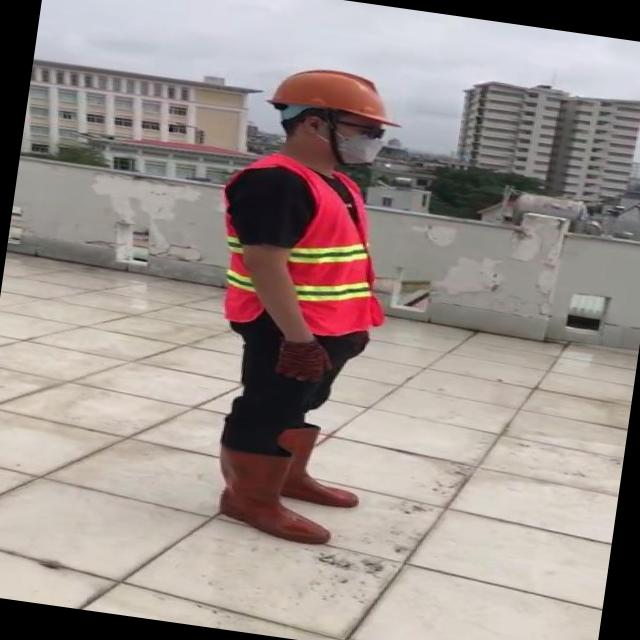boots: (208, 446, 342, 548), (266, 423, 369, 511)
helmet: (264, 58, 404, 130)
vest: (207, 156, 408, 345)
